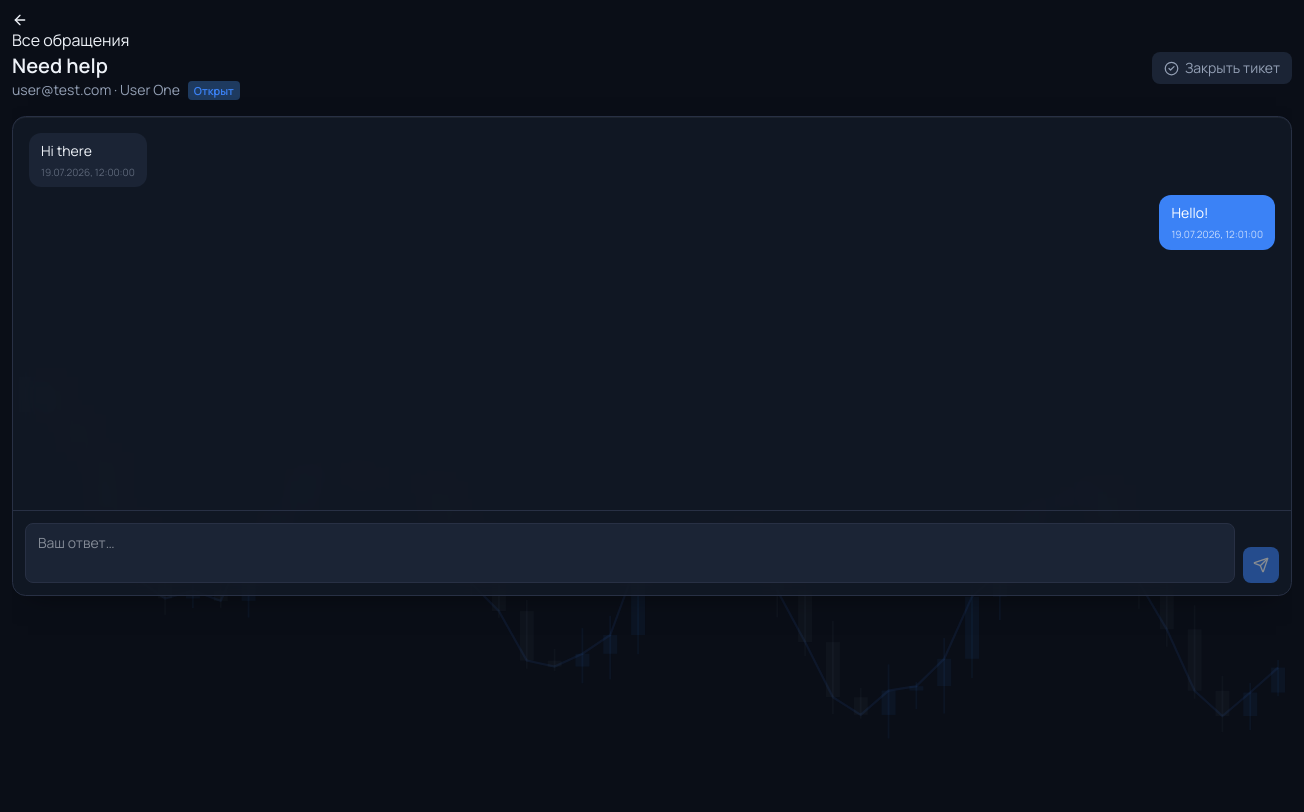
AdminSupportThread › toggles ticket status closed then open
The image size is (1304, 812).
Expected: the heading "Need help" is shown, 12,52 -> 108,79
Click the button "Закрыть тикет". click: (1222, 68)
box: 1152,52 -> 1292,84
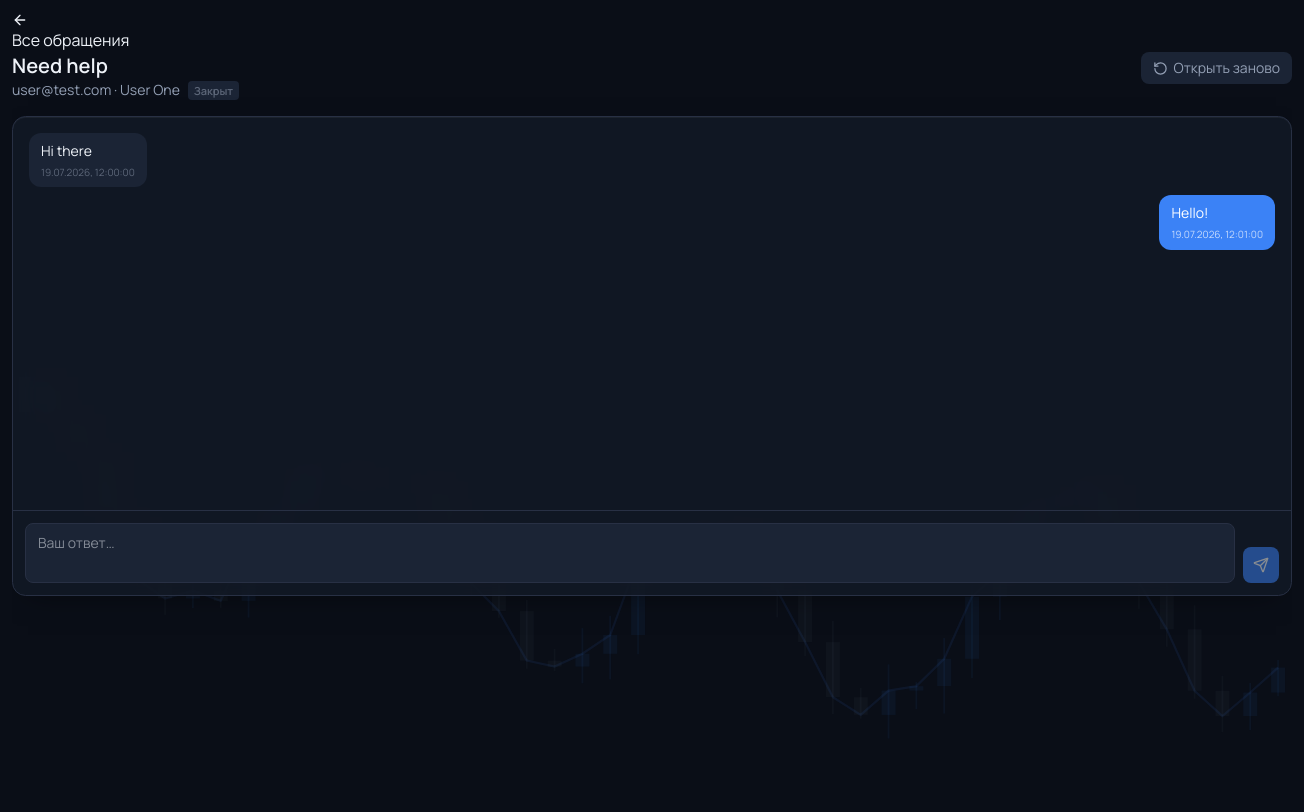
Expected: the button "Открыть заново" is shown, 1141,52 -> 1292,84
